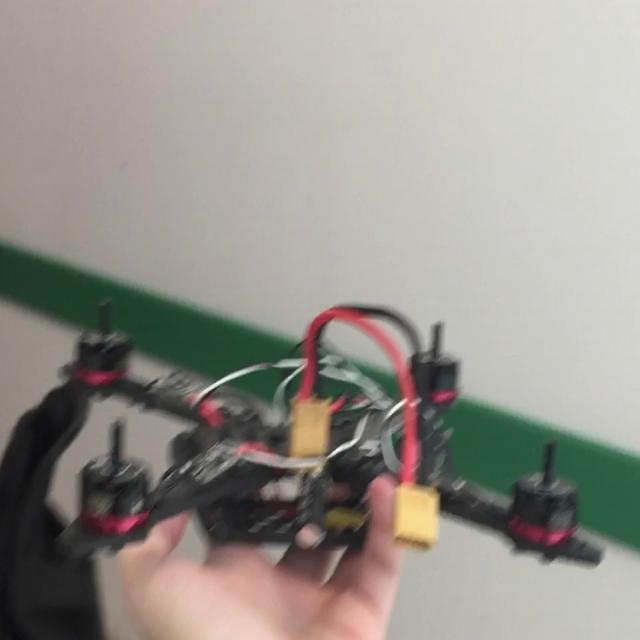drone: (27, 282, 614, 602)
